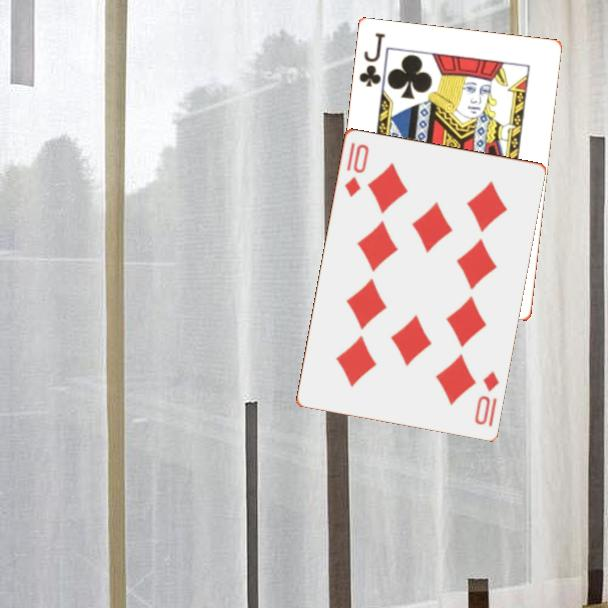c11: (356, 30, 389, 90)
d10: (471, 367, 502, 429), (341, 139, 372, 199)
